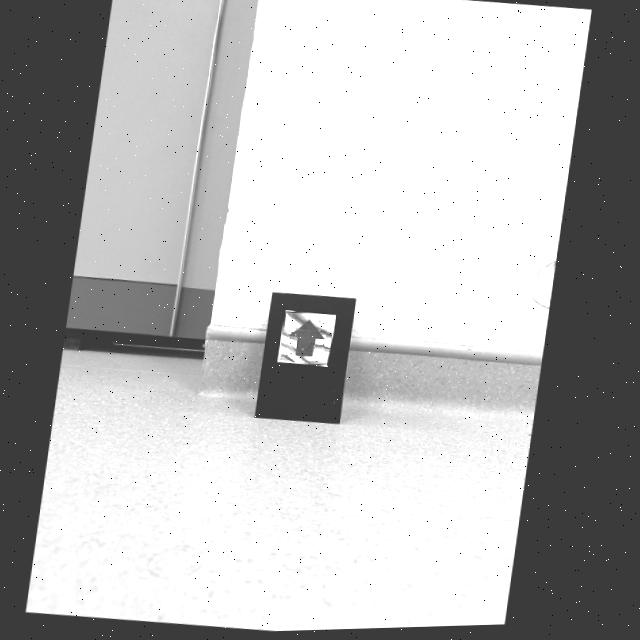UP: (290, 322, 328, 359)
